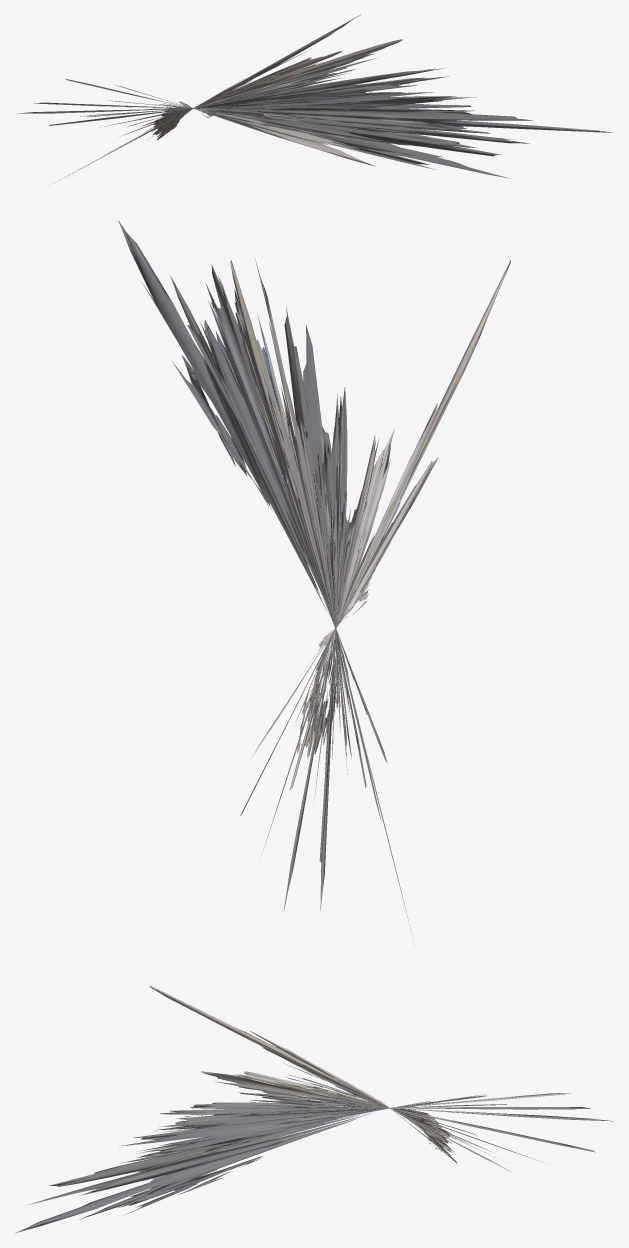
The picture shows the model from 3 angles, top to bottom: view 1: azimuth 30°, elevation 25°; view 2: azimuth 150°, elevation 25°; view 3: azimuth 270°, elevation 25°; orthographic projection. The views are drawn at different scales.
Bounding box in the file's own units: 4681640 × 2650337 × 5592480.
1 material, 1 textured.
